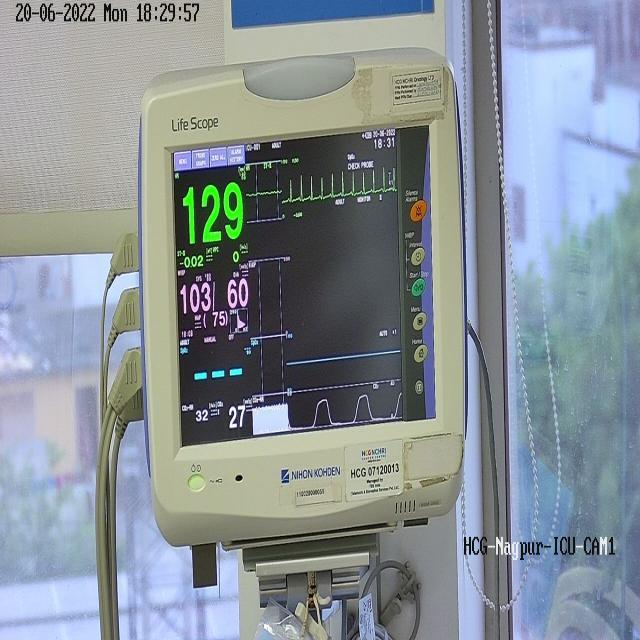Monitor: (146, 47, 468, 630)
